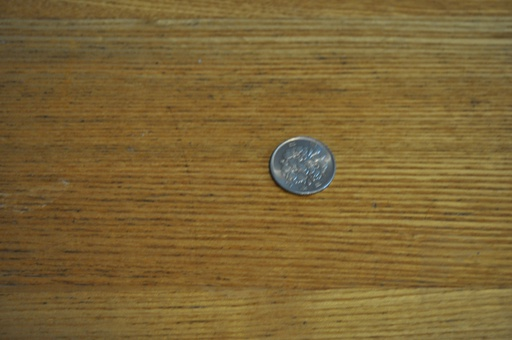100yen: (270, 137, 334, 195)
